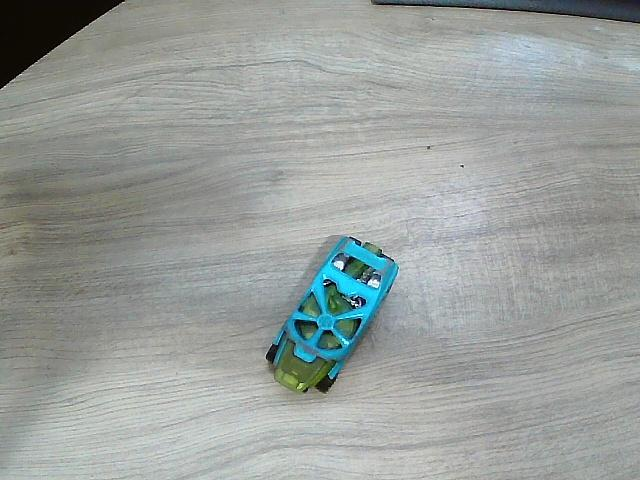Carro: (265, 237, 399, 395)
